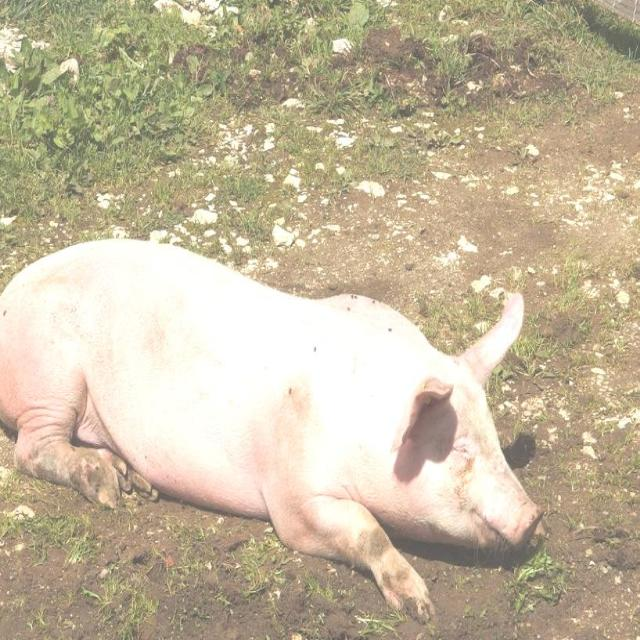pig: (0, 240, 542, 618)
